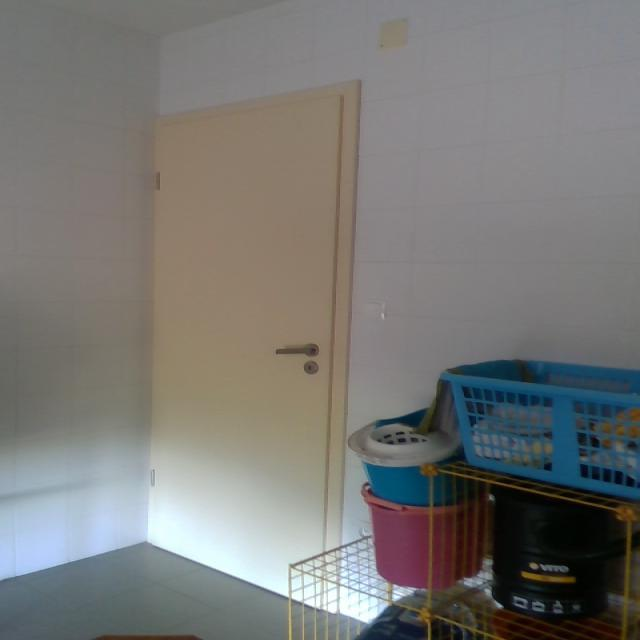door: (126, 80, 373, 623)
